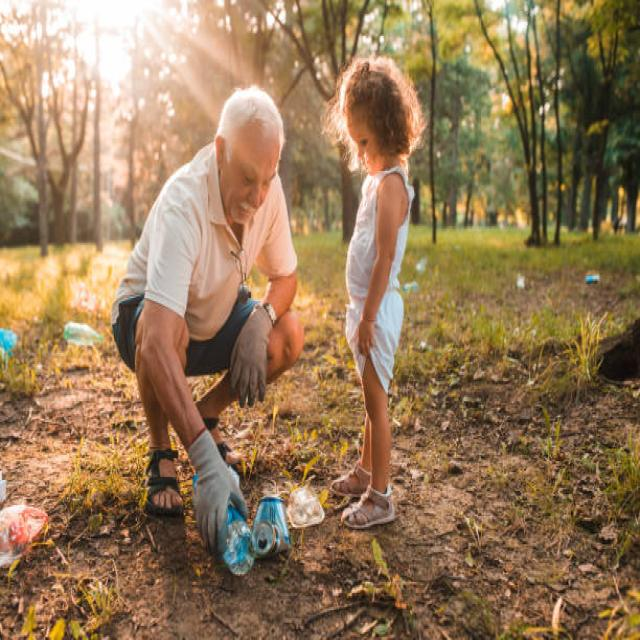glass: (47, 319, 111, 345)
metal: (253, 491, 299, 571)
plastic: (1, 498, 60, 550), (221, 518, 249, 577)
